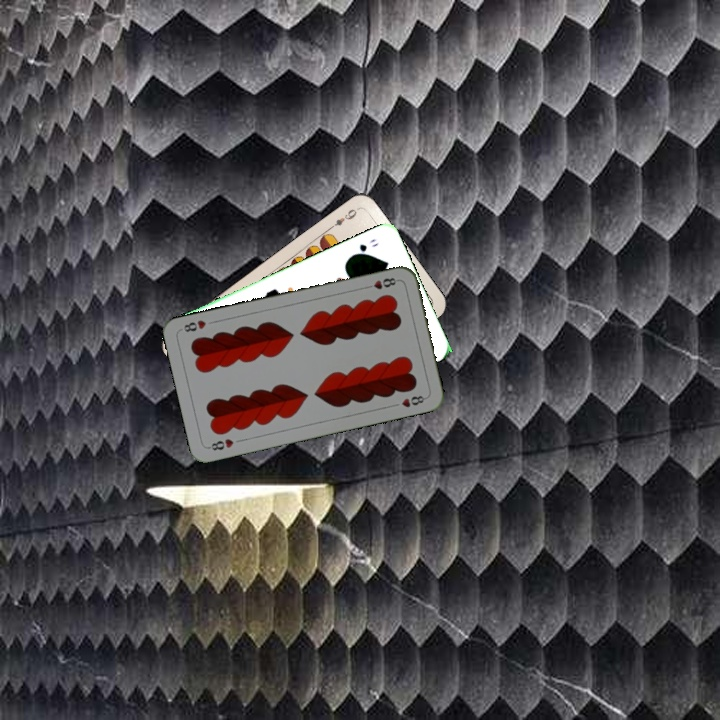E9: (325, 204, 361, 232)
GO: (347, 235, 381, 260)
H8: (361, 274, 401, 292), (204, 435, 236, 453)
